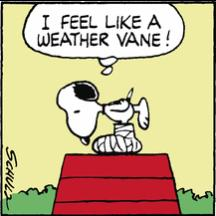snoopy: (54, 78, 152, 156)
